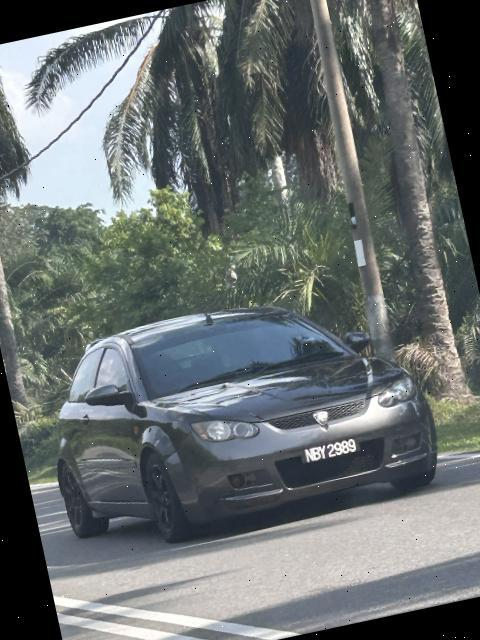License_Plate: (298, 433, 365, 467)
NBY2989: (298, 433, 365, 467)
car: (30, 270, 446, 569)
